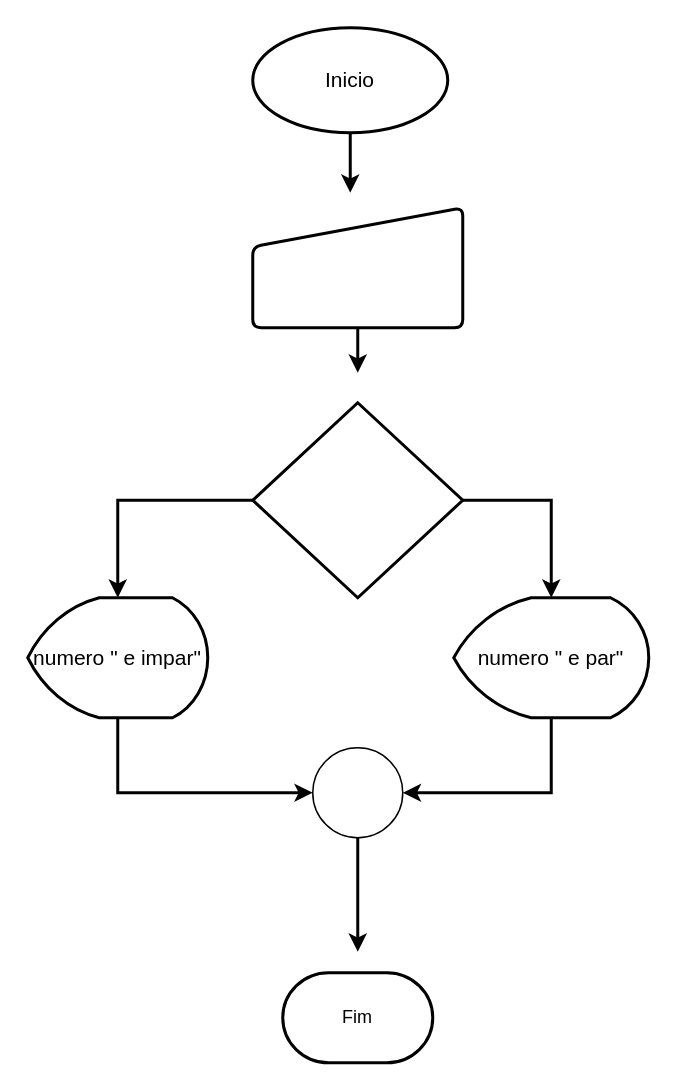
This 675x1089 diagram has some shape labels left out. Each missing label, with the centre of its shape:
"numero % 2 == 0" goes at pixel 357 499.
"numero = 10;" goes at pixel 357 267.
